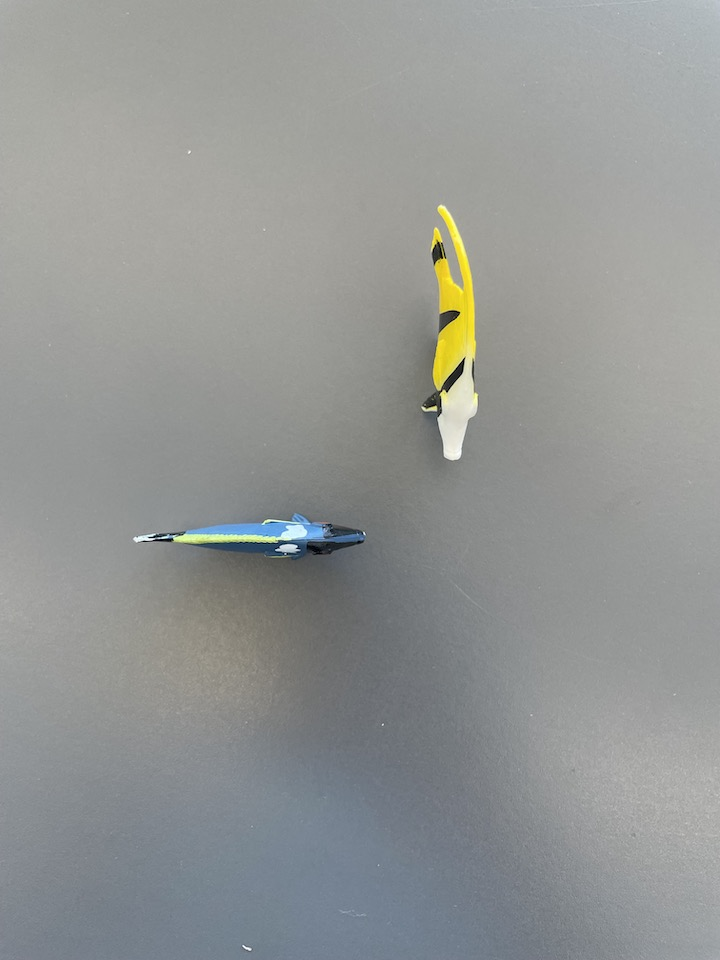danger: (419, 199, 484, 468)
fish: (127, 512, 376, 565)
